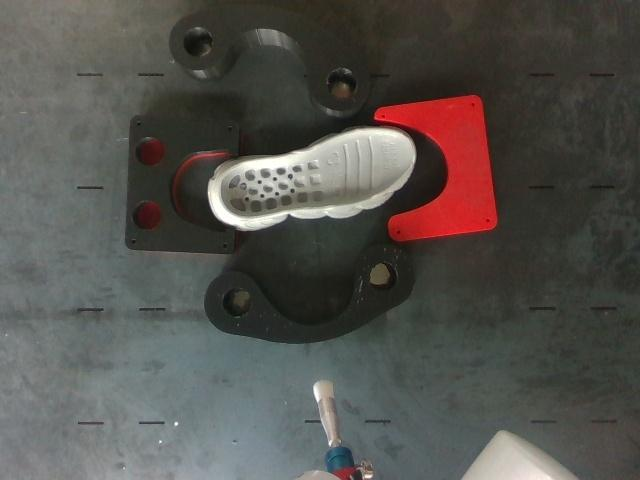shoes: (220, 129, 414, 218)
